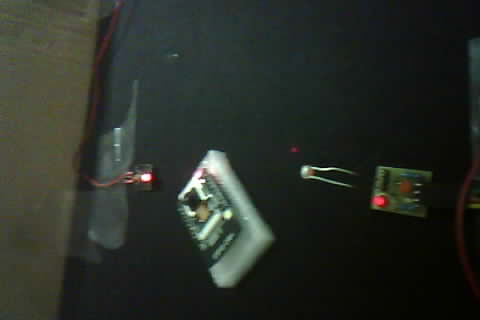esp32: (169, 166, 253, 276)
